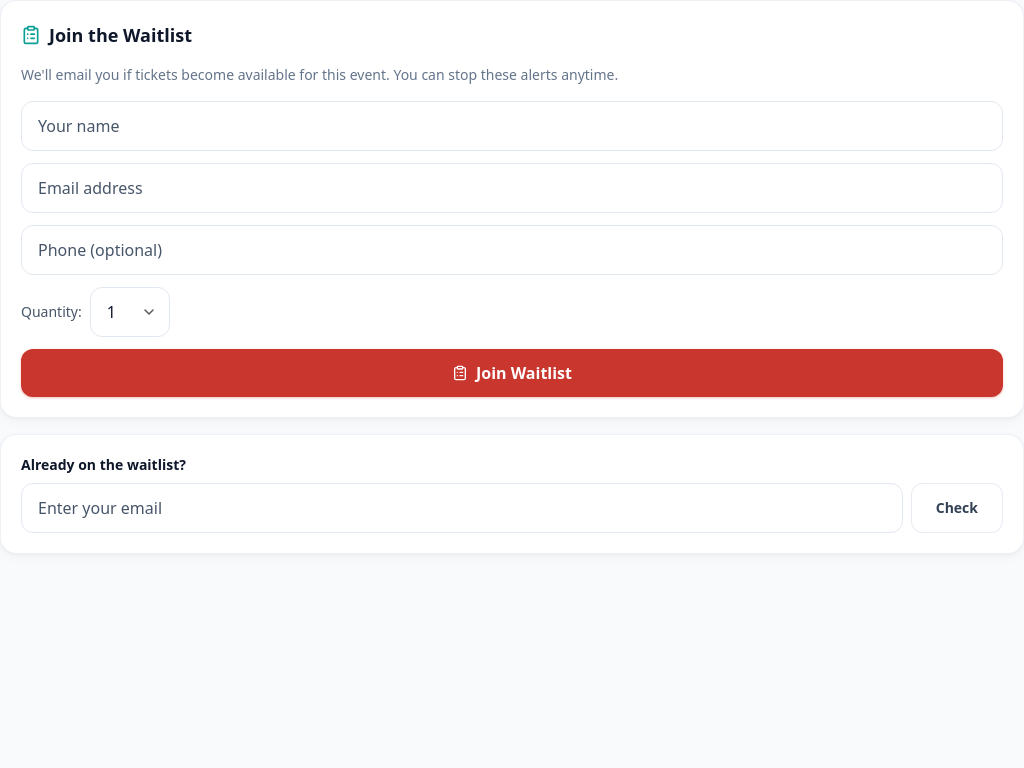
Test: reports failed checks separately and retries saved credentials with readable statuses
This screenshot has width=1024, height=768.
Type "buyer@example.test" into the field with placeholder "Enter your email" at (462, 508), box [21,483,903,533]
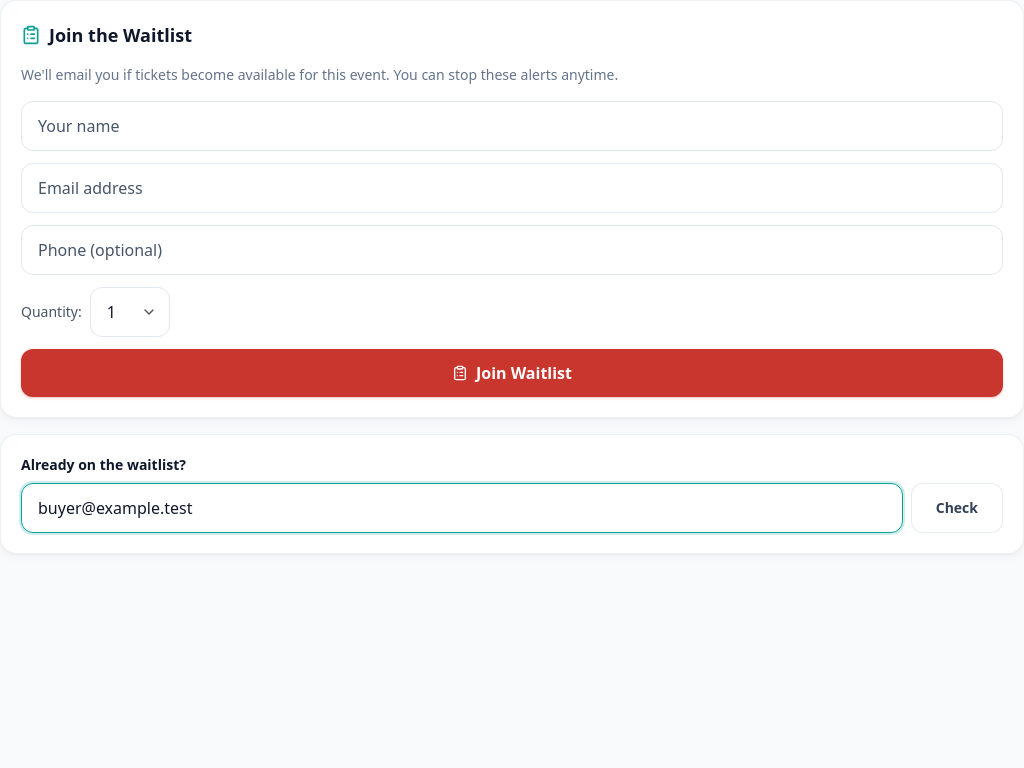
Click the button "Check" at (957, 508), box [911,483,1003,533]
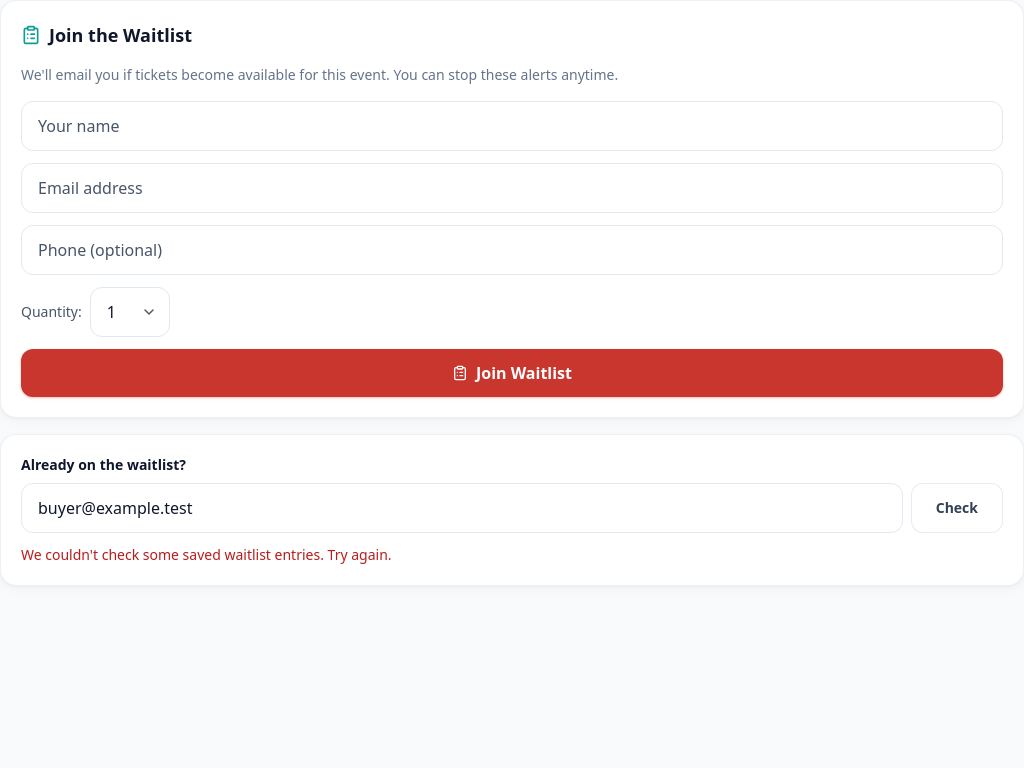
expect the message shows "We couldn't check some saved waitlist entries.": met, box [21,545,392,564]
Click the button "Check" at (957, 508), box [911,483,1003,533]
(page scrolled)
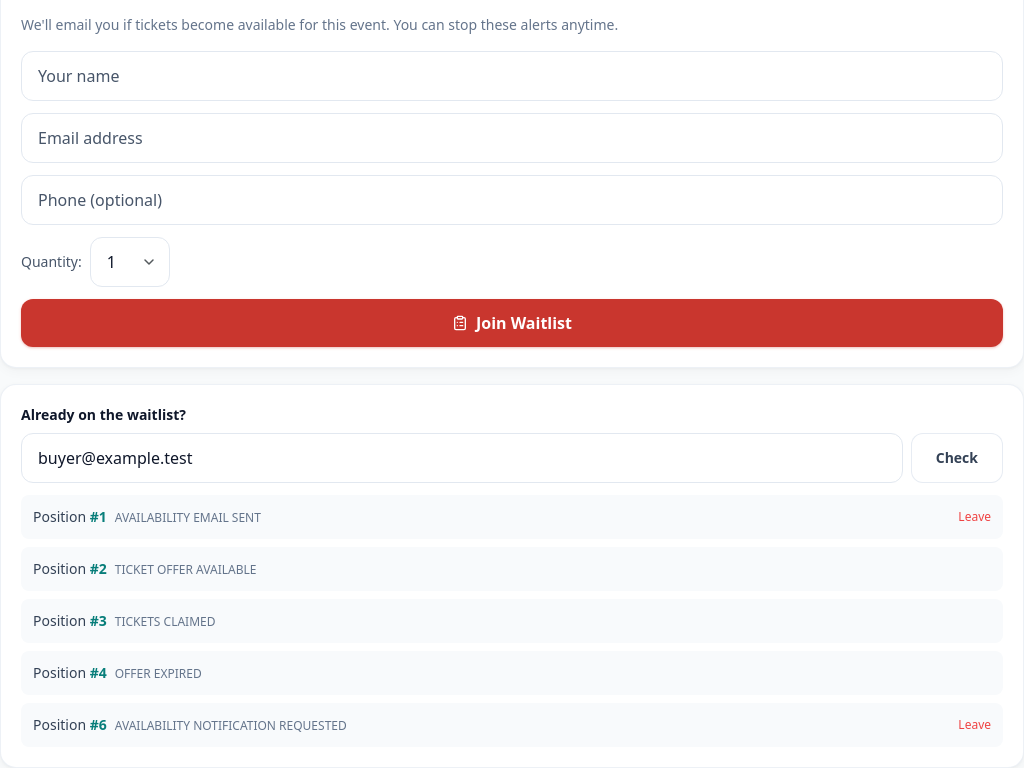
expect the text "Availability email sent" is shown: met, box [115,509,261,526]
expect the text "Ticket offer available" is shown: met, box [115,561,256,578]
expect the text "Tickets claimed" is shown: met, box [115,613,216,630]
